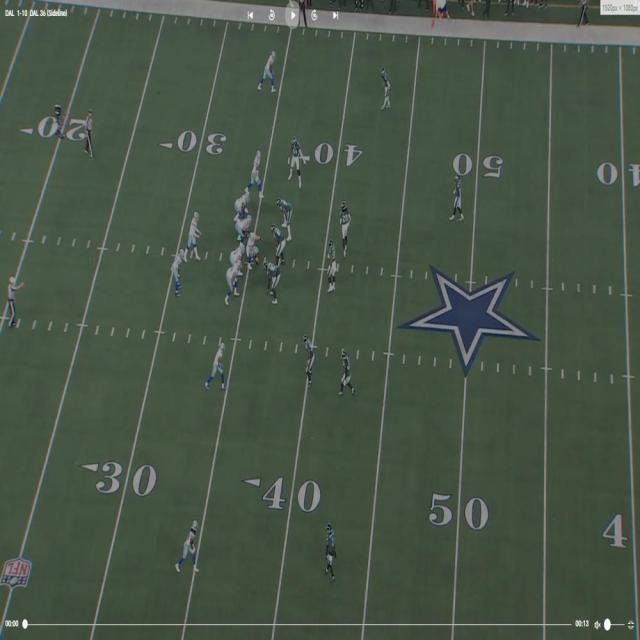center: (246, 234, 261, 274)
db: (342, 352, 355, 394), (452, 176, 464, 220), (325, 526, 335, 576), (382, 67, 391, 106)
lb: (326, 241, 336, 292), (290, 130, 300, 178), (304, 336, 314, 384), (342, 205, 351, 251)
qb: (187, 208, 200, 258)
skill: (176, 522, 198, 572), (208, 340, 226, 388), (172, 250, 186, 295), (251, 152, 265, 192), (261, 51, 275, 90)
